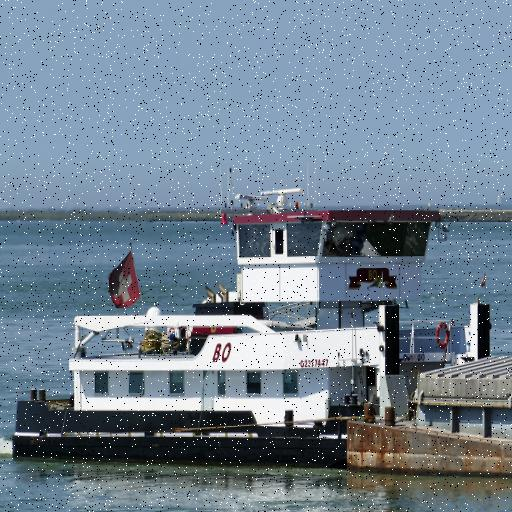tugboat: (9, 180, 496, 476)
